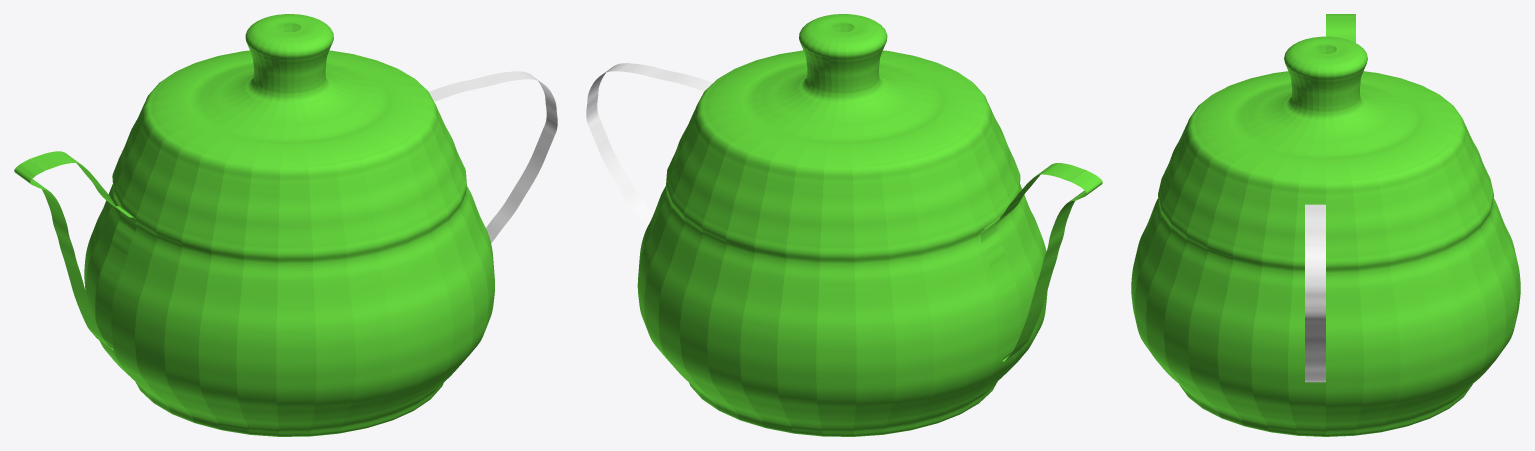
The picture shows the model from 3 angles, left to right: view 1: azimuth 30°, elevation 25°; view 2: azimuth 150°, elevation 25°; view 3: azimuth 270°, elevation 25°; orthographic projection. The views are drawn at different scales.
Parts seen in each view (by area): view 1: BezierCurve, BezierCurve.001, BezierCurve.002; view 2: BezierCurve, BezierCurve.001, BezierCurve.002; view 3: BezierCurve, BezierCurve.002, BezierCurve.001.
Boxes of the visible parts, <box> form: BezierCurve: <box>84,14,494,436</box>; BezierCurve.001: <box>14,151,135,349</box>; BezierCurve.002: <box>429,71,557,243</box>; BezierCurve: <box>637,14,1047,436</box>; BezierCurve.001: <box>981,163,1102,361</box>; BezierCurve.002: <box>586,63,712,227</box>; BezierCurve: <box>1131,36,1520,436</box>; BezierCurve.002: <box>1305,204,1325,382</box>; BezierCurve.001: <box>1326,14,1355,42</box>.
Bounding box in the file's own units: 8.63 × 5.57 × 5.96.
